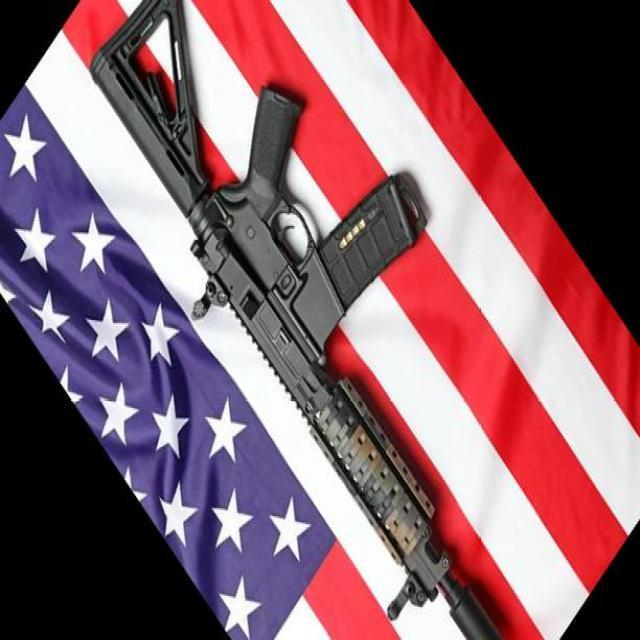weapon: (90, 0, 501, 640)
